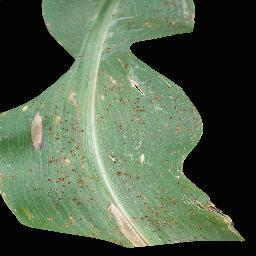Corn_Common_Rust: (85, 0, 248, 250), (48, 82, 85, 235), (23, 96, 48, 151), (39, 3, 67, 48), (13, 202, 47, 230), (0, 166, 36, 184), (77, 52, 85, 62)
